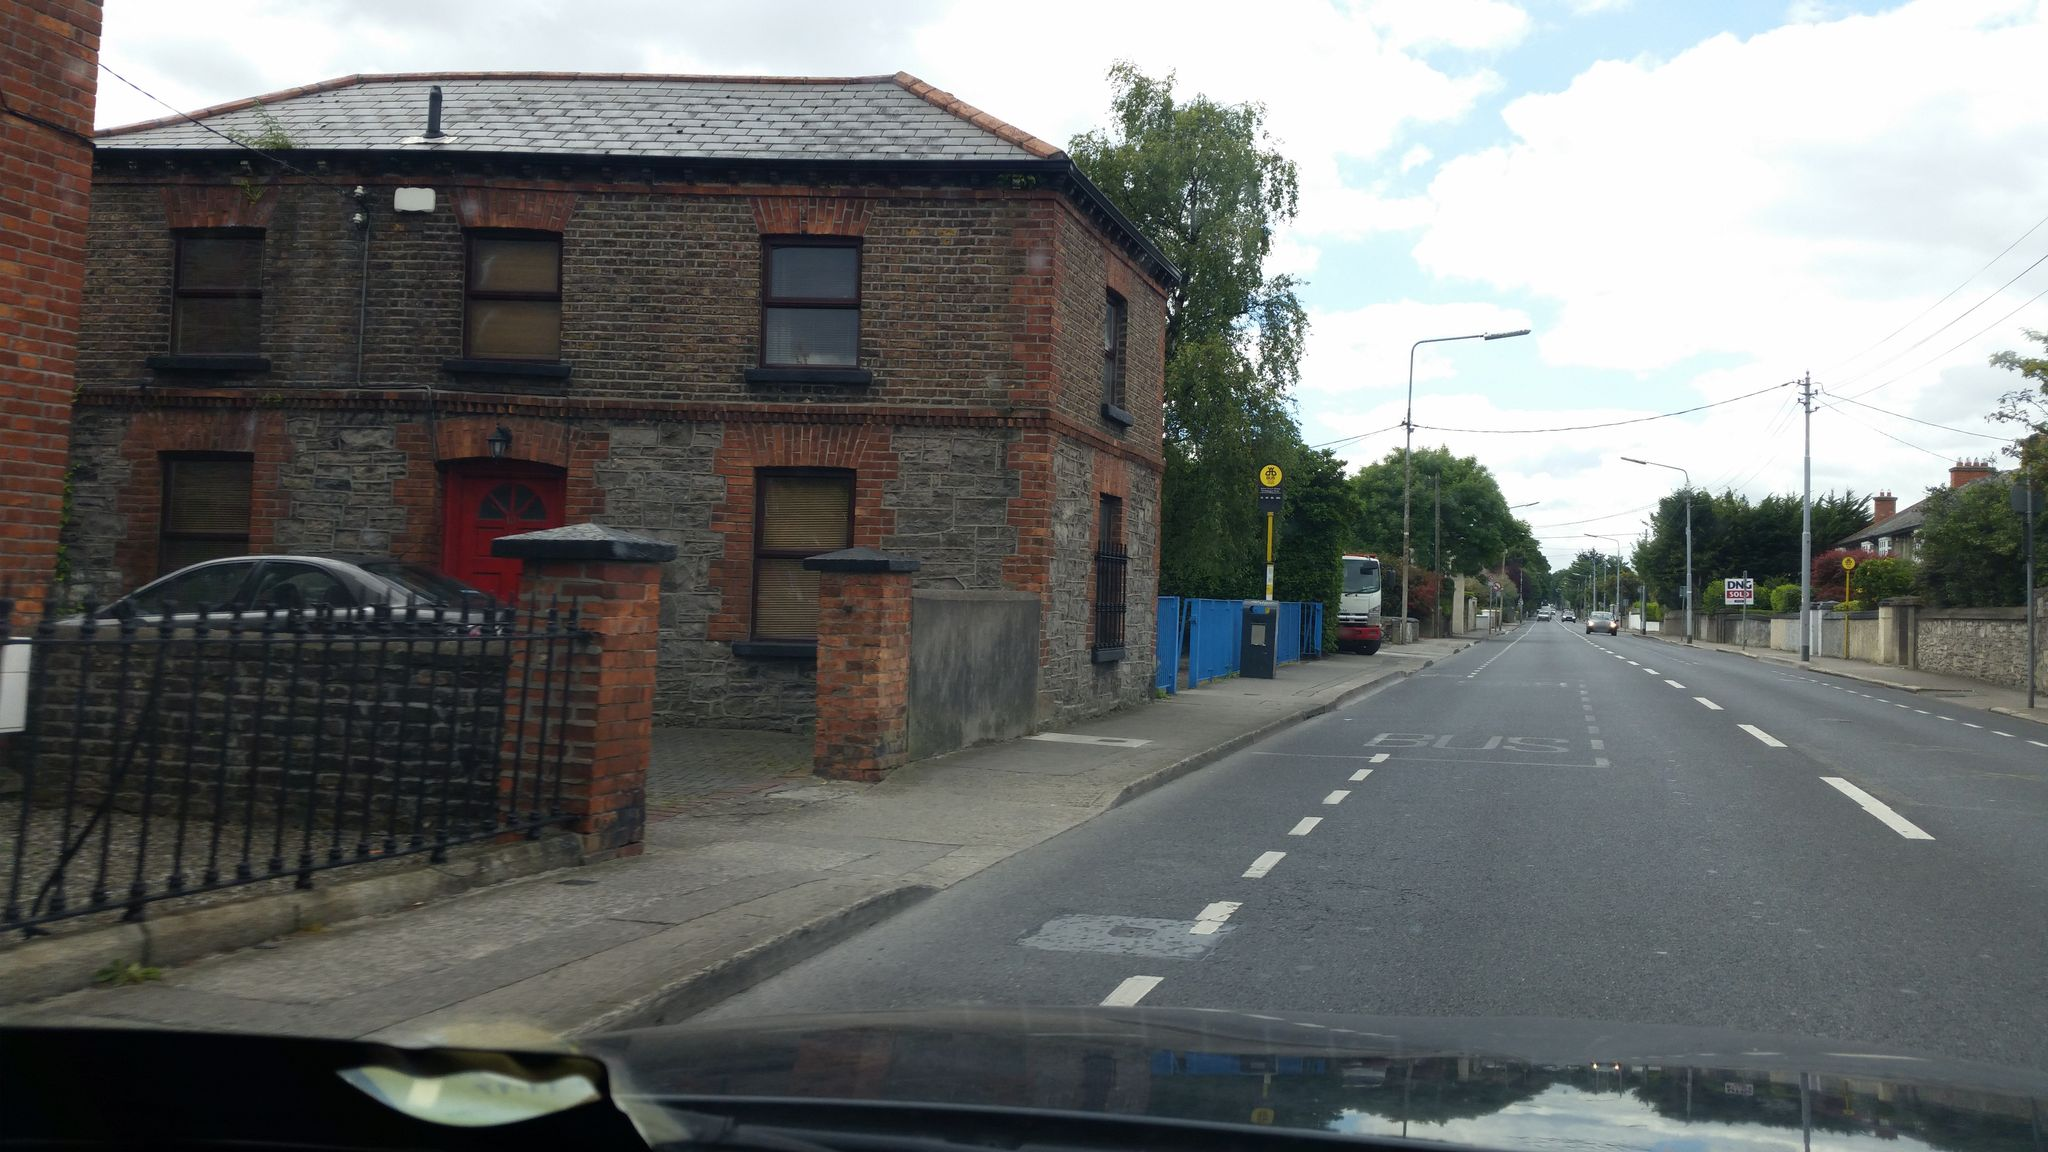property sign: (1715, 567, 1760, 609)
